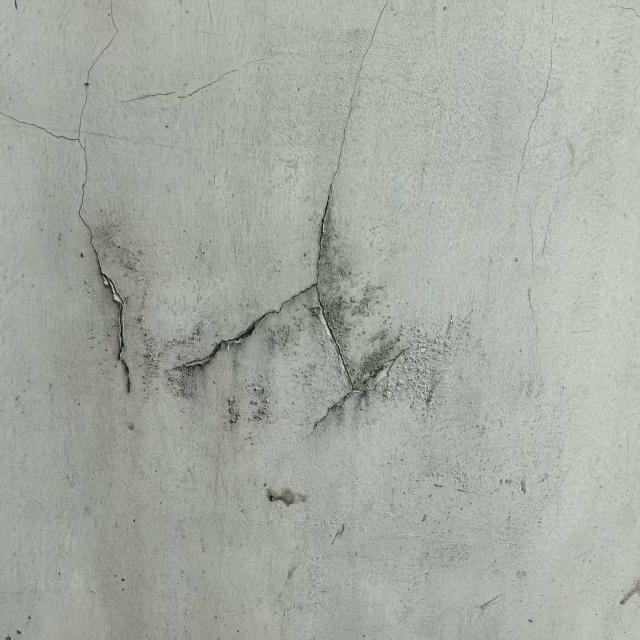crack: (165, 4, 420, 438), (4, 7, 135, 402)
